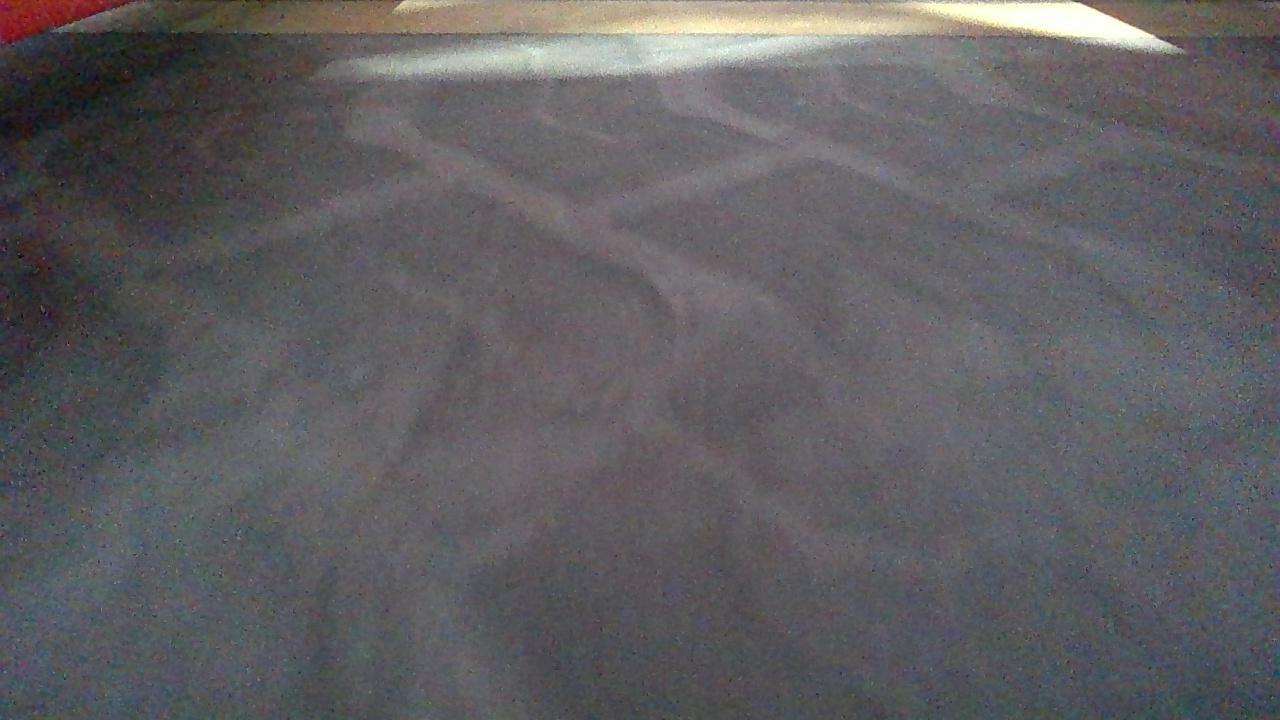yellow_line: (101, 0, 1279, 36)
